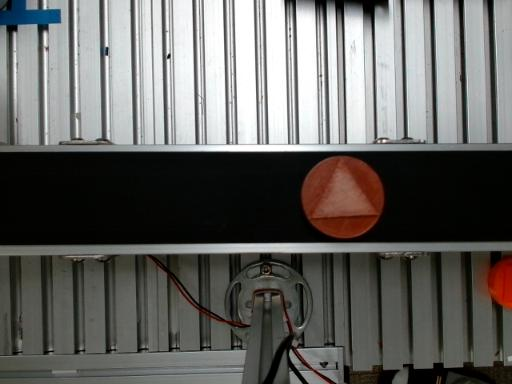Brown_Waper: (302, 157, 383, 238)
Not_Square: (308, 157, 380, 218)
